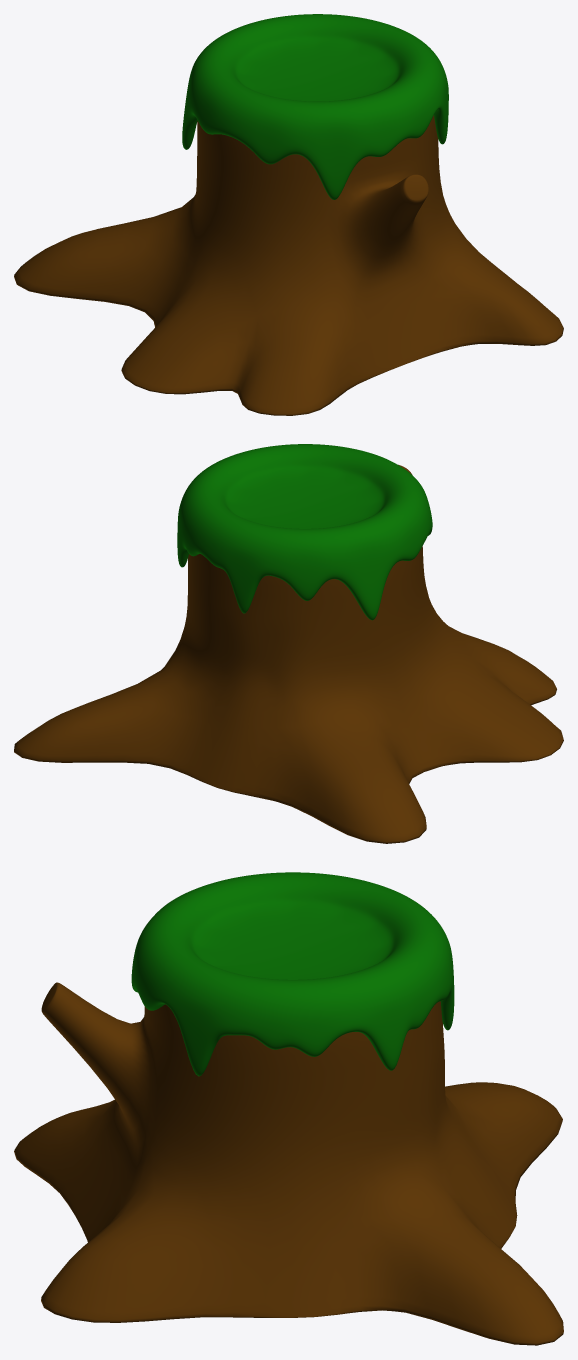
The model's file is Tree3.fbx.
3 views of the same model, one above another, from view 1: azimuth 30°, elevation 25°; view 2: azimuth 150°, elevation 25°; view 3: azimuth 270°, elevation 25° (orthographic). The views are drawn at different scales.
Parts seen in each view (by area): view 1: 树桩, 苔藓; view 2: 树桩, 苔藓; view 3: 树桩, 苔藓.
Part boxes in pixels (<box>): 树桩: <box>14,115,563,415</box>; 苔藓: <box>182,14,448,199</box>; 树桩: <box>14,464,563,843</box>; 苔藓: <box>177,444,432,620</box>; 树桩: <box>14,982,563,1345</box>; 苔藓: <box>131,872,454,1076</box>.
Size of the model in its own units: 77.35 by 42.45 by 70.82.
